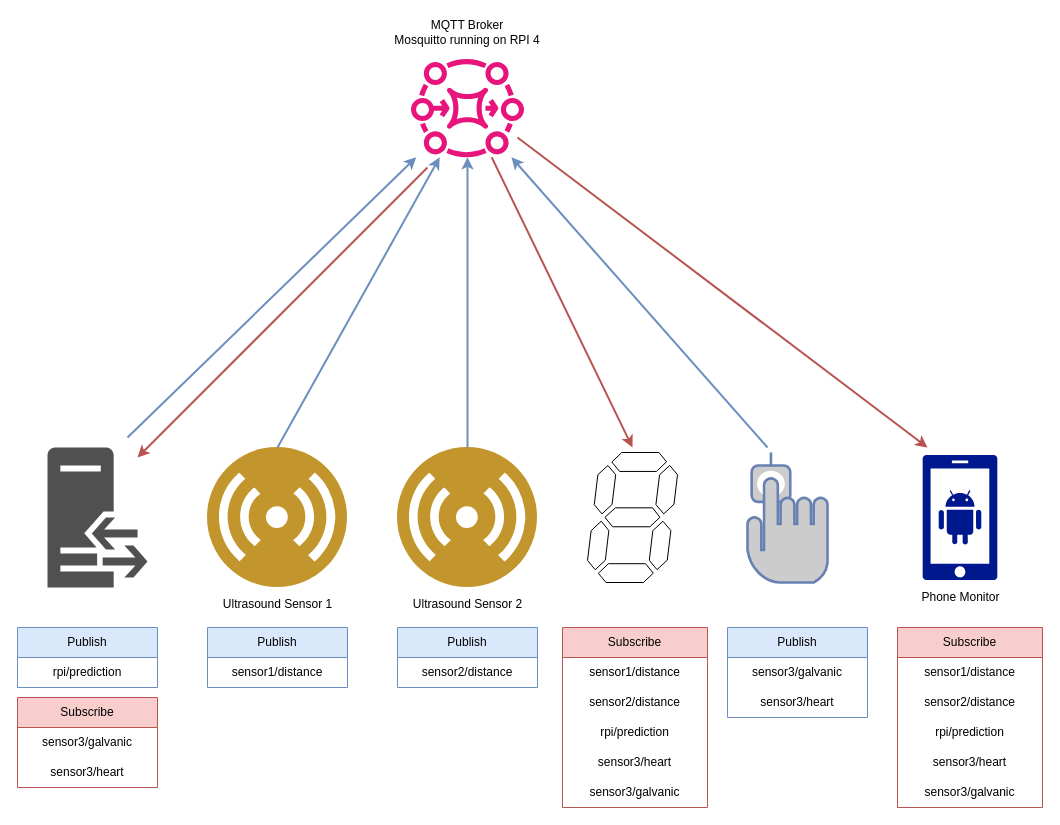
Image size: 1060x825. Some labels were removed from this diagram. The centre of each missing label's shape, as x and y in pixels:
"Raspberry Pi 4 4GB" goes at [97,517].
"System Monitor" goes at [632,517].
"User Data Collector" goes at [787,517].
